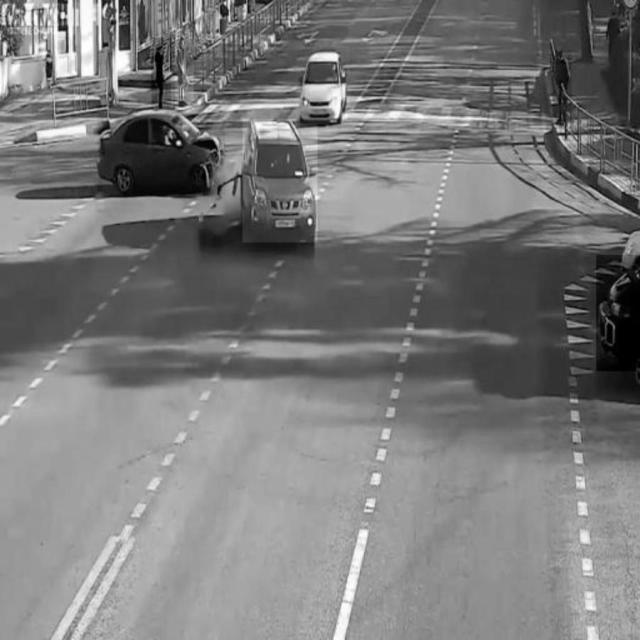person: (175, 29, 193, 109), (152, 38, 172, 108), (553, 50, 571, 121)
vehicle: (97, 105, 225, 195), (243, 119, 317, 243), (596, 255, 640, 371), (296, 44, 350, 124)
